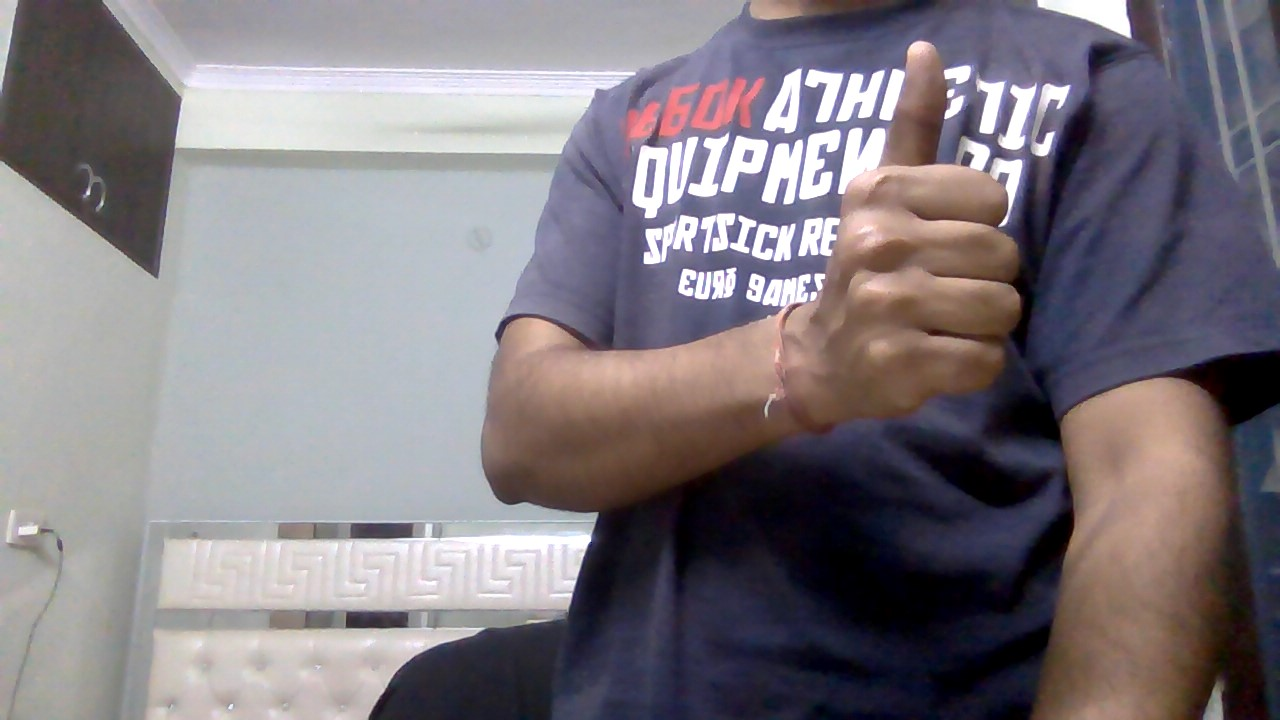Save: (806, 35, 1039, 445)
